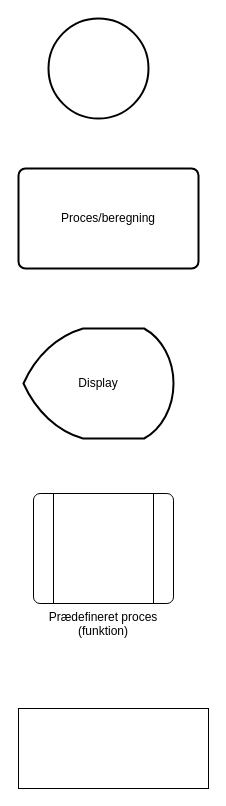
Some shapes in this 226 by 806 pixel diagram are drawn without their labels. Here are the shapes that lost their labels. From the top down, the centre of each, then its label:
At [98,68]: "Start/slut".
At [113,748]: "Proces (beregning)".
